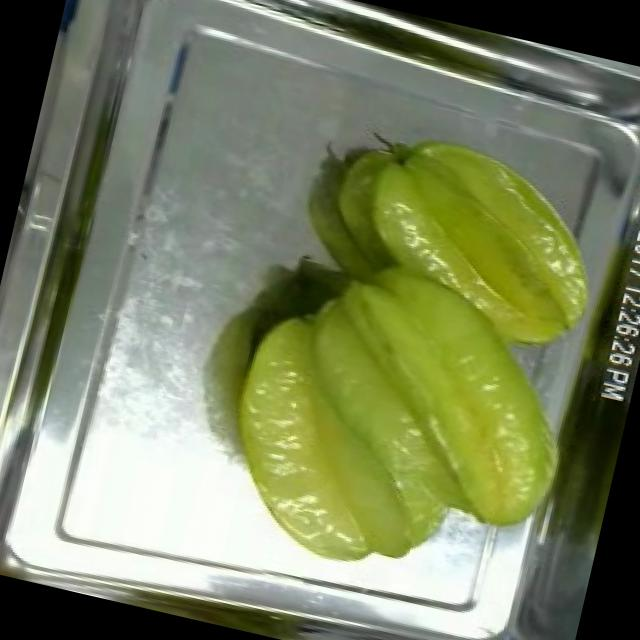fruit: (187, 234, 604, 624), (296, 100, 636, 383)
